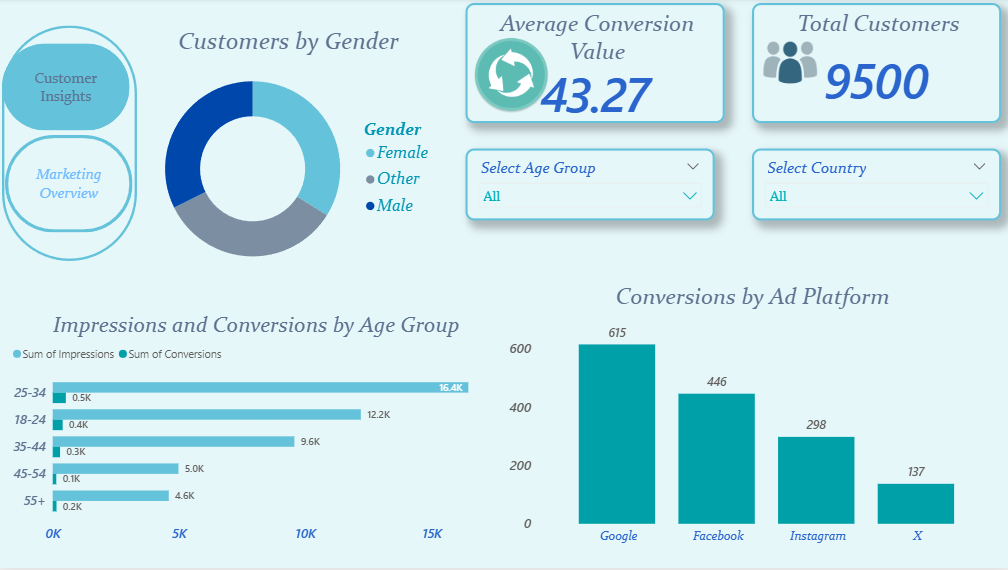

This screenshot's page, from the dashboard's own definition file:
{"tool":"powerbi","page":{"name":"Customer Insights","canvas":[1280,720],"ordinal":1},"visuals":[{"type":"card","title":"Average Conversion Value","fields":{"Values":["Avg(FitBit.ConversionValue)"]},"box":[591.5,7.6,326.9,151.2],"z":0},{"type":"card","title":"Total Customers","fields":{"Values":["CountNonNull(FitBit.CustomerID)"]},"box":[952.4,7.6,313.7,151.2],"z":1000},{"type":"slicer","fields":{"Values":["FitBit.Country"]},"box":[952.4,190.9,313.7,90.7],"z":2000},{"type":"slicer","fields":{"Values":["FitBit.AgeGroup"]},"box":[591.5,190.9,313.7,90.7],"z":3000},{"type":"clusteredBarChart","title":" Impressions and  Conversions by Age  Group","fields":{"Category":["FitBit.AgeGroup"],"Y":["Sum(FitBit.Impressions)","Sum(FitBit.Conversions)"]},"box":[15.1,395,625.5,302.4],"z":4000},{"type":"donutChart","title":"Customers  by Gender","fields":{"Category":["FitBit.Gender"],"Y":["Count(FitBit.CustomerID)"]},"box":[177.6,35.9,381.7,323.2],"z":5000},{"type":"columnChart","title":" Conversions by Ad Platform","fields":{"Category":["FitBit.AdPlatform"],"Y":["Sum(FitBit.Conversions)"]},"box":[640.6,359.1,625.5,338.3],"z":6000},{"type":"shape","box":[7.6,35.9,170.1,296.7],"z":7000},{"type":"shape","box":[7.6,58.6,160.6,109.6],"z":8000},{"type":"shape","box":[11.3,173.9,160.6,122.8],"z":9000},{"type":"image","box":[952.4,39.7,96.4,85],"z":10000},{"type":"image","box":[591.5,35.9,115.3,122.8],"z":11000}]}

Visuals, with their boxes in screenshot pixels (x1, y1, x2, y2), scaled from the page's 1280x720 canvas onto the 1008x570 screenshot:
"Average Conversion Value" card: select_region(466, 6, 723, 126)
"Total Customers" card: select_region(750, 6, 997, 126)
slicer - FitBit.Country: select_region(750, 151, 997, 223)
slicer - FitBit.AgeGroup: select_region(466, 151, 713, 223)
" Impressions and  Conversions by Age  Group" clusteredBarChart: select_region(12, 313, 504, 552)
"Customers  by Gender" donutChart: select_region(140, 28, 440, 284)
" Conversions by Ad Platform" columnChart: select_region(504, 284, 997, 552)
shape: select_region(6, 28, 140, 263)
shape: select_region(6, 46, 132, 133)
shape: select_region(9, 138, 135, 235)
image: select_region(750, 31, 826, 99)
image: select_region(466, 28, 557, 126)
